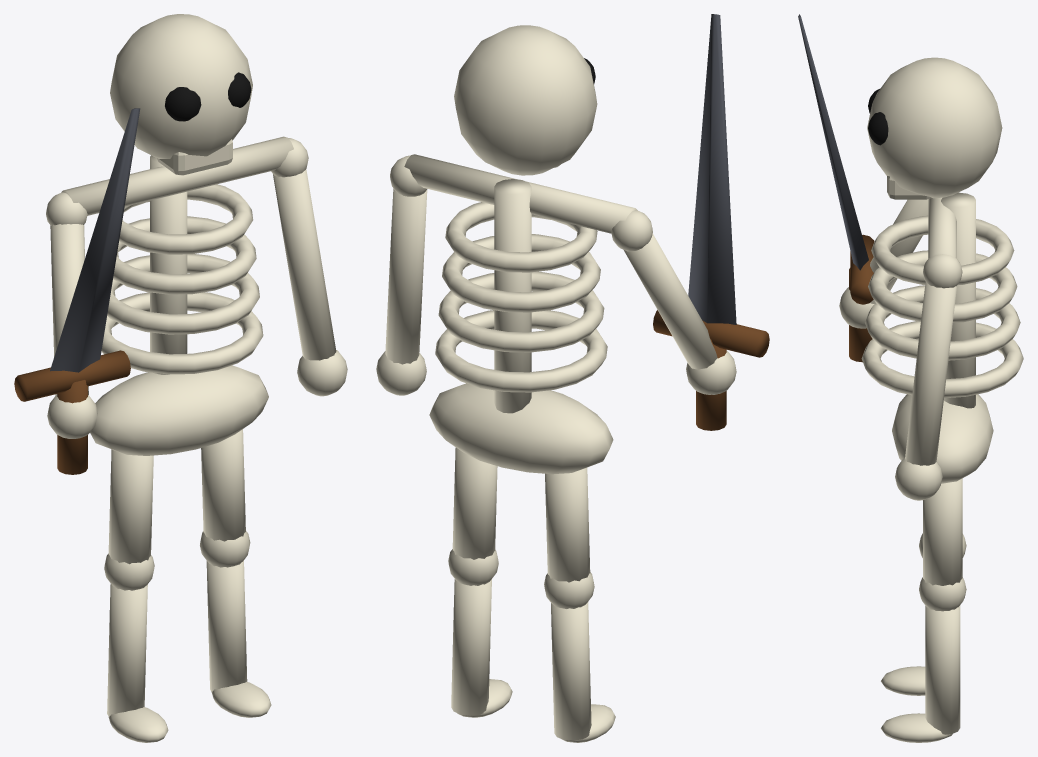
The model's file is skeleton.glb.
3 renders of one model, left to right at view 1: azimuth 30°, elevation 25°; view 2: azimuth 150°, elevation 25°; view 3: azimuth 270°, elevation 25°, orthographic. The views are drawn at different scales.
Visible parts, largest first — view 1: skeleton; view 2: skeleton; view 3: skeleton.
Boxes of the visible parts, bbox=[...] form: skeleton: bbox=[14, 14, 347, 742]; skeleton: bbox=[376, 14, 769, 742]; skeleton: bbox=[798, 14, 1023, 742].
Size of the model in its own units: 0.48 by 0.9043 by 0.2838.
